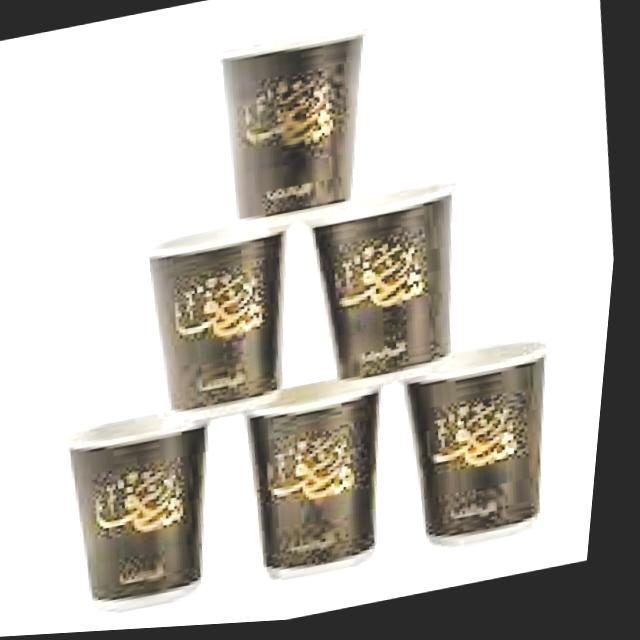Cup: (227, 377, 421, 596), (205, 20, 402, 235), (55, 405, 242, 631), (397, 341, 575, 562), (139, 213, 321, 428), (299, 187, 479, 398)
